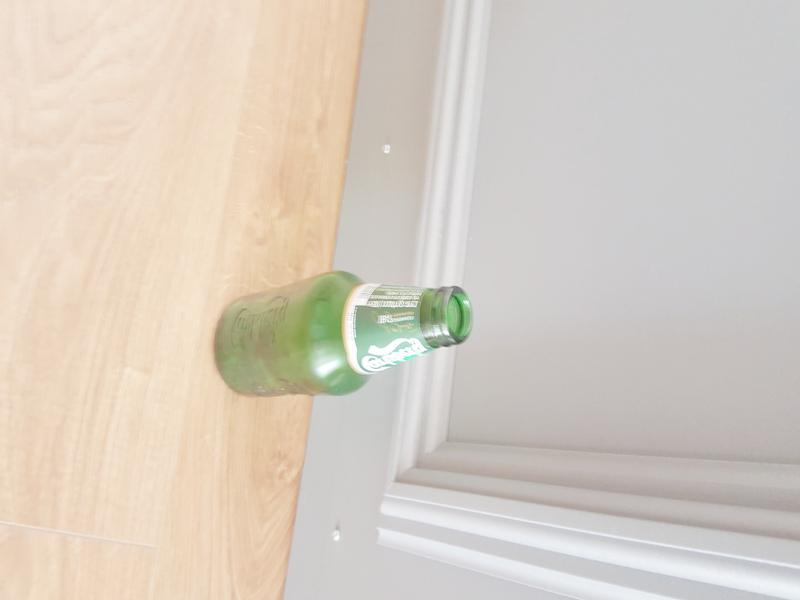Beer: (212, 270, 471, 398)
